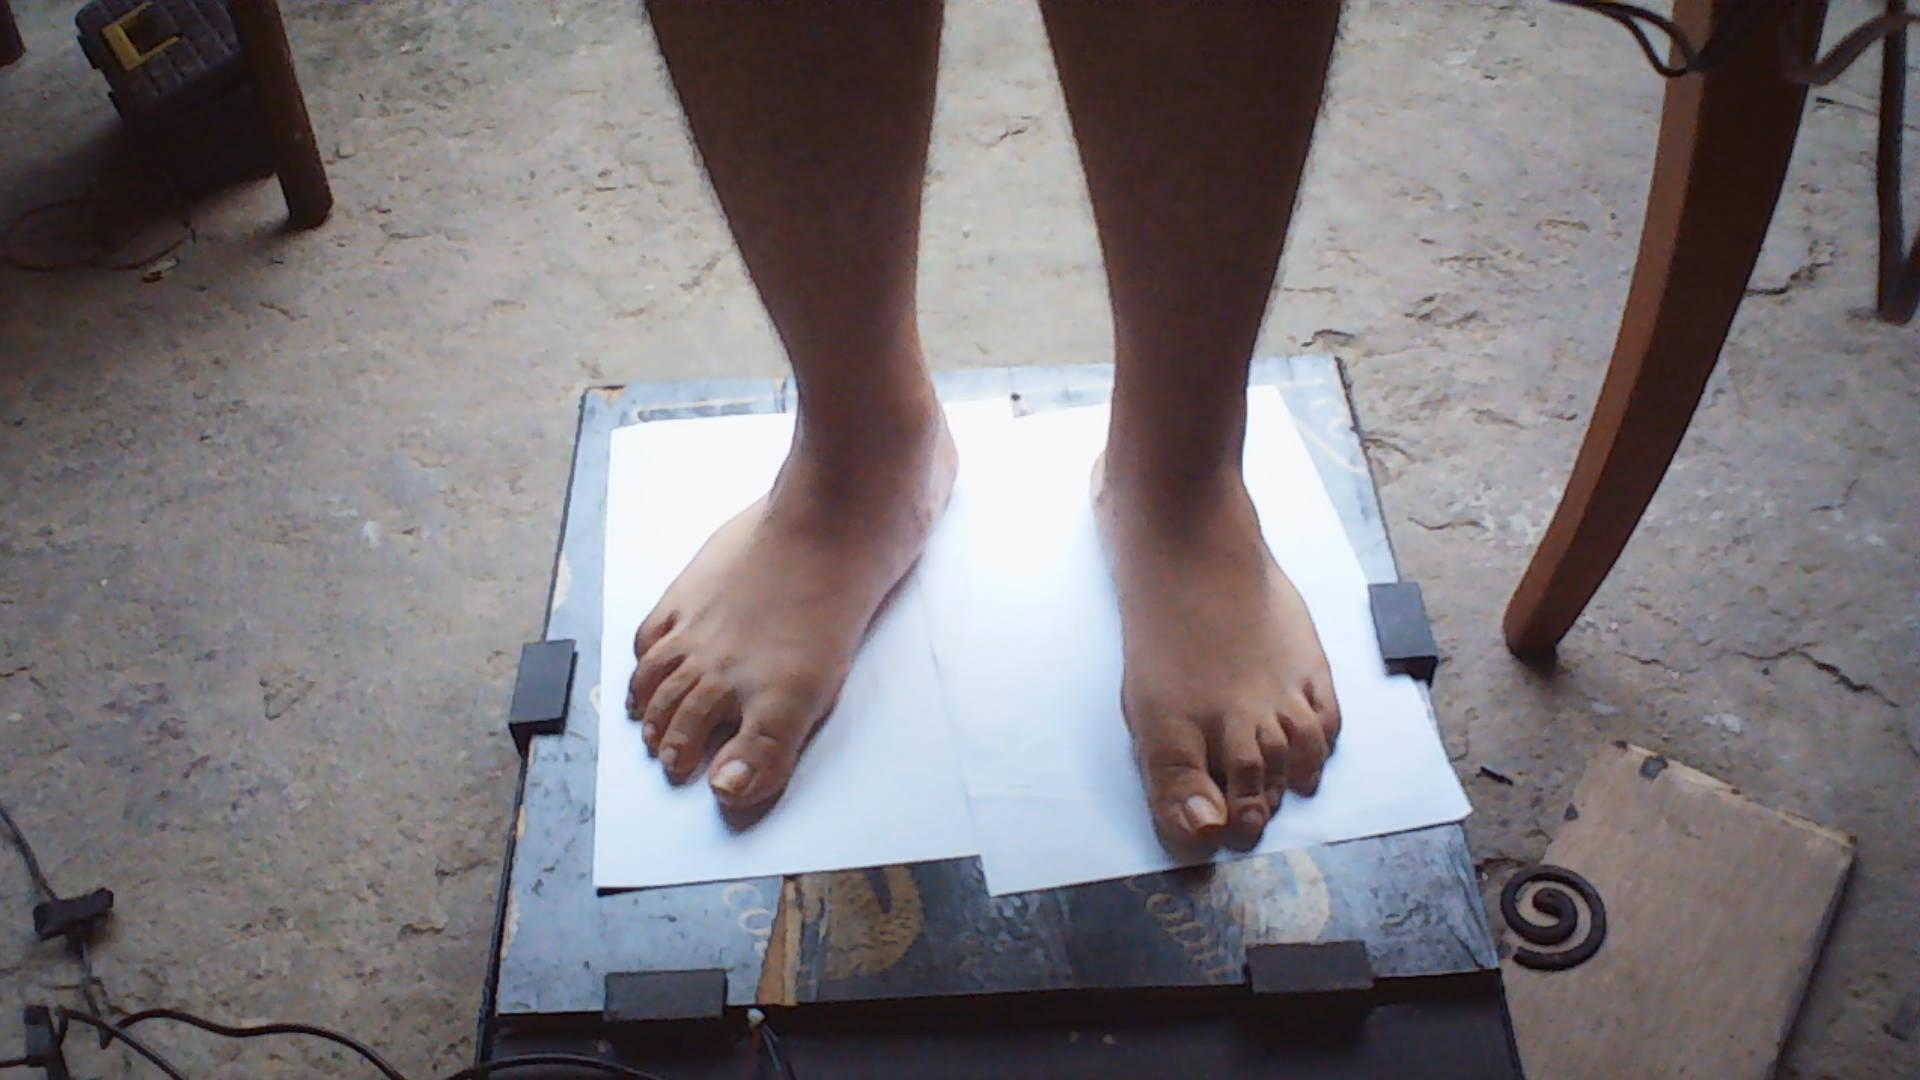Bare_feet: (620, 394, 984, 840), (1060, 417, 1370, 880)
